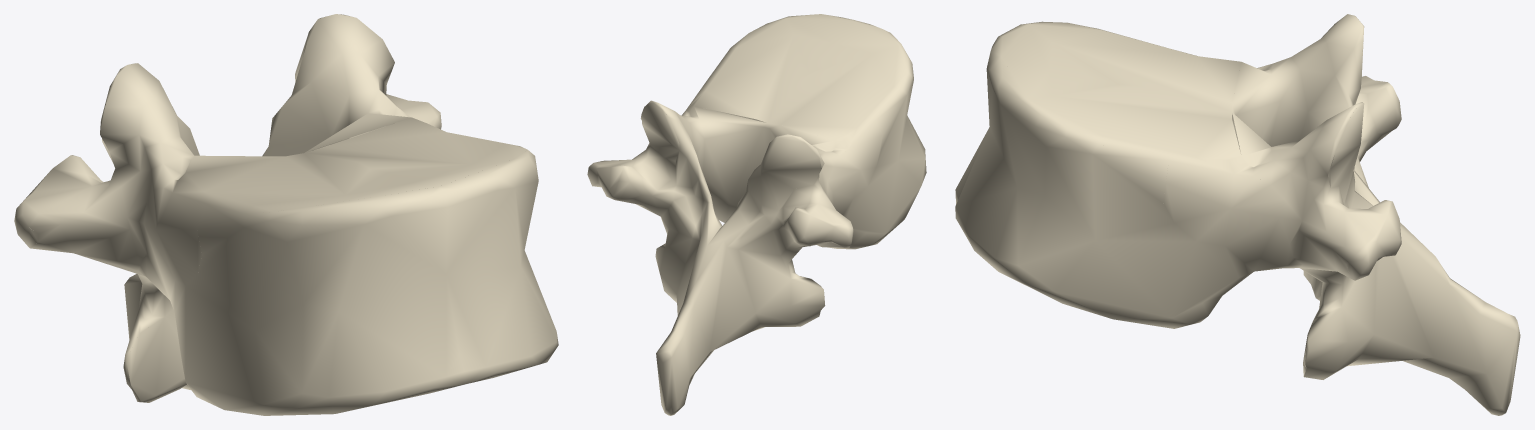
The model's file is esqueleto-vertebra-t11.glb.
The picture shows the model from 3 angles, left to right: view 1: azimuth 30°, elevation 25°; view 2: azimuth 150°, elevation 25°; view 3: azimuth 270°, elevation 25°; orthographic projection. The views are drawn at different scales.
Visible parts, largest first — view 1: Vertebra T11; view 2: Vertebra T11; view 3: Vertebra T11.
Boxes of the visible parts, left/top/right/bottom form: Vertebra T11: left=14, top=14, right=558, bottom=415; Vertebra T11: left=587, top=14, right=926, bottom=415; Vertebra T11: left=955, top=14, right=1520, bottom=415.
Size of the model in its own units: 0.0581 by 0.055 by 0.0786.
